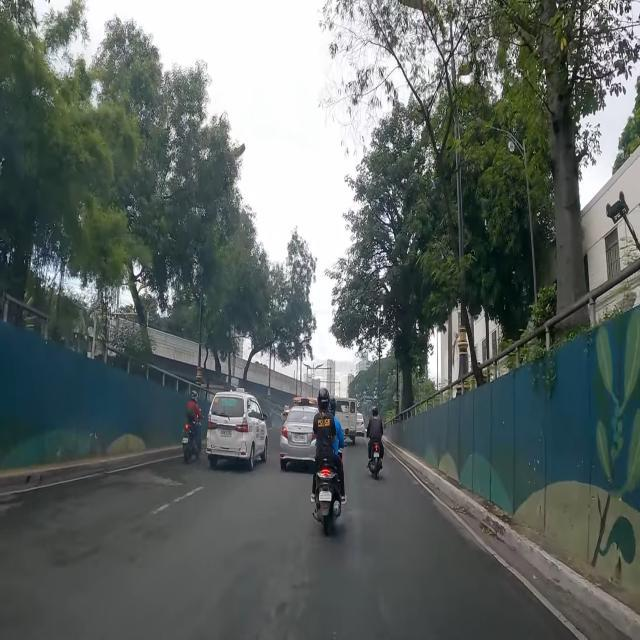car: (206, 390, 268, 470), (280, 404, 318, 472), (356, 411, 366, 436)
jeepney: (292, 396, 317, 406)
motorcycle: (311, 388, 346, 534), (182, 391, 204, 462), (366, 406, 384, 478)
truck: (336, 398, 356, 444)
